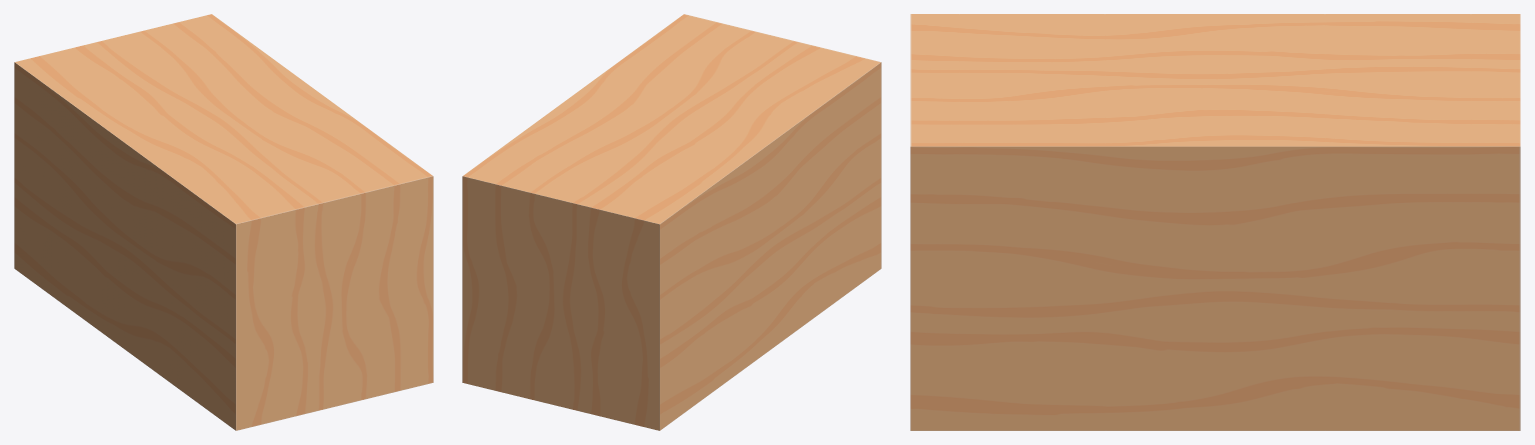
Rendered from TestBox.fbx.
3 views of the same model, side by side, from view 1: azimuth 30°, elevation 25°; view 2: azimuth 150°, elevation 25°; view 3: azimuth 270°, elevation 25° (orthographic). The views are drawn at different scales.
Visible parts, largest first — view 1: pCube1; view 2: pCube1; view 3: pCube1.
Boxes of the visible parts, x1=… form: pCube1: x1=14, y1=14, x2=433, y2=430; pCube1: x1=462, y1=14, x2=881, y2=430; pCube1: x1=910, y1=14, x2=1520, y2=430.
Size of the model in its own units: 100 by 100 by 194.
